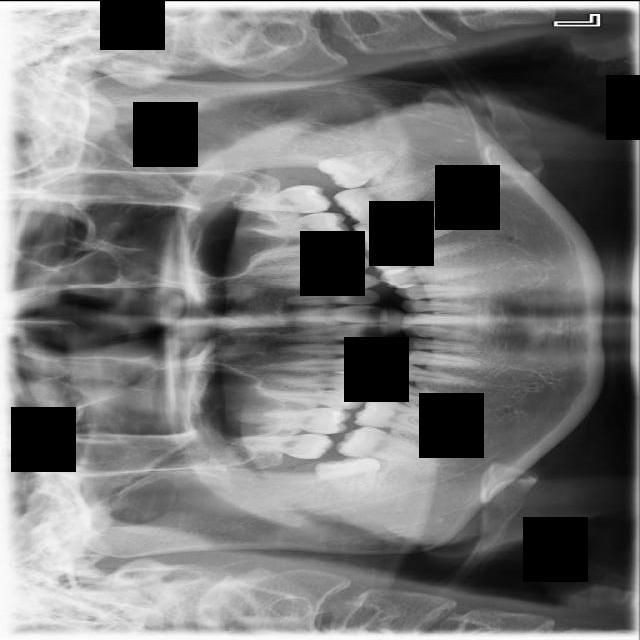73: (578, 47, 590, 52)
BioHorizons Implant: (233, 184, 333, 212)
Biomet 3i Implant: (315, 143, 401, 195)
Blue Sky Bio Implant: (331, 174, 433, 228)
Caries: (221, 432, 334, 461)
Implant: (335, 421, 435, 466)
Keystone Dental Implant: (320, 452, 383, 499)
